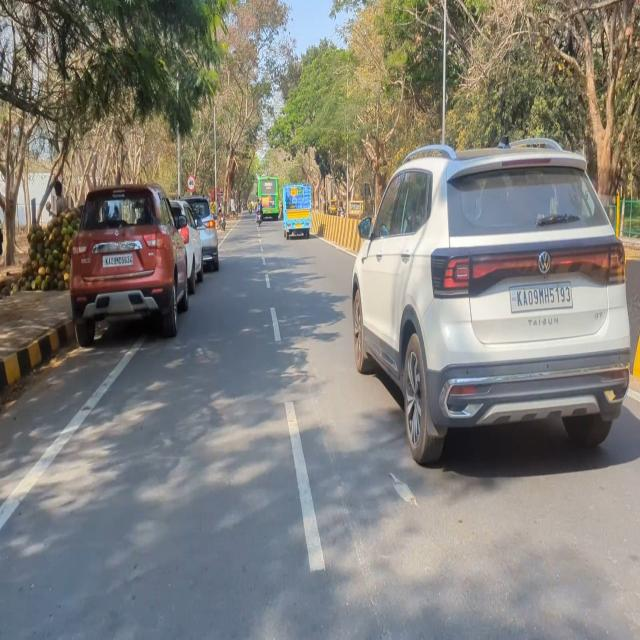bien_cam: (187, 174, 195, 191)
